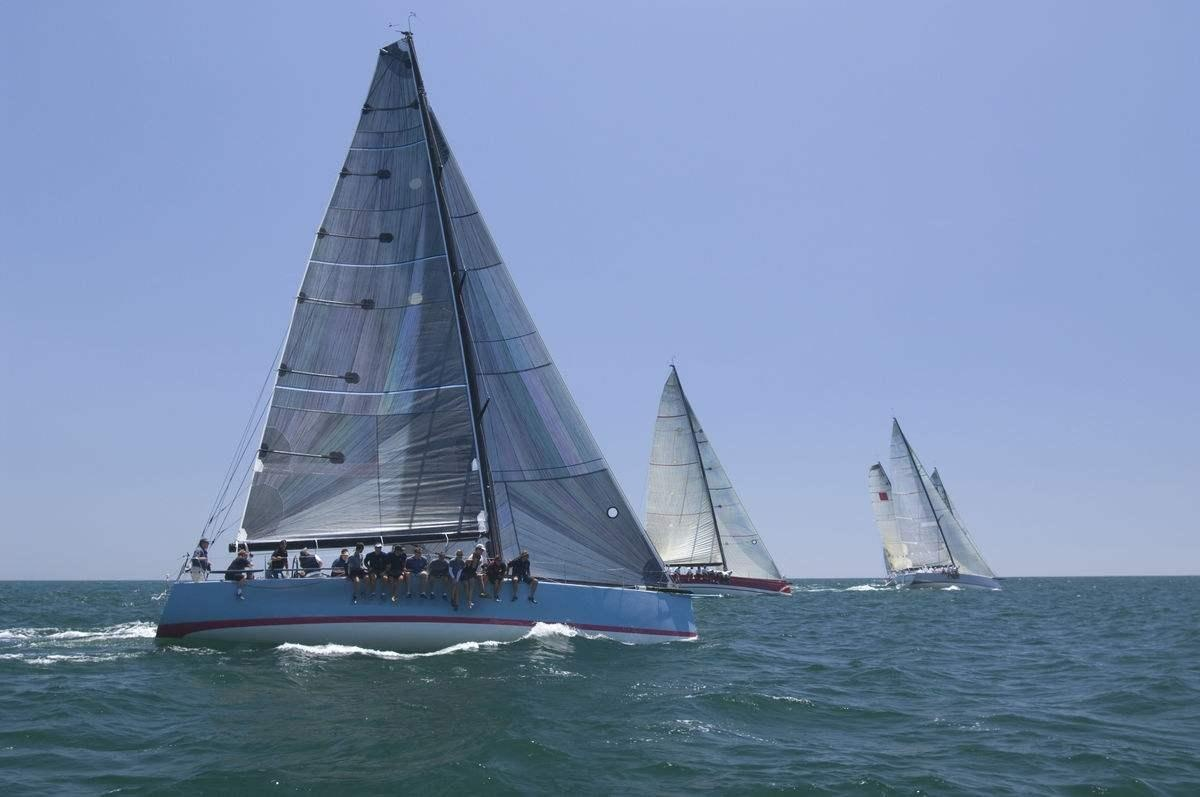fanchuan: (146, 11, 708, 653), (635, 359, 794, 601), (861, 411, 1005, 594)
